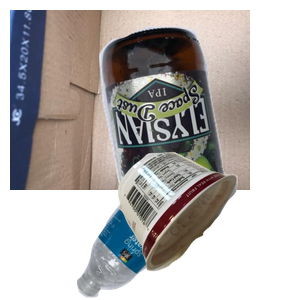cardboard: (10, 10, 250, 190)
glass: (97, 24, 300, 204)
plastic: (74, 156, 280, 300)
trash: (116, 149, 300, 300)
